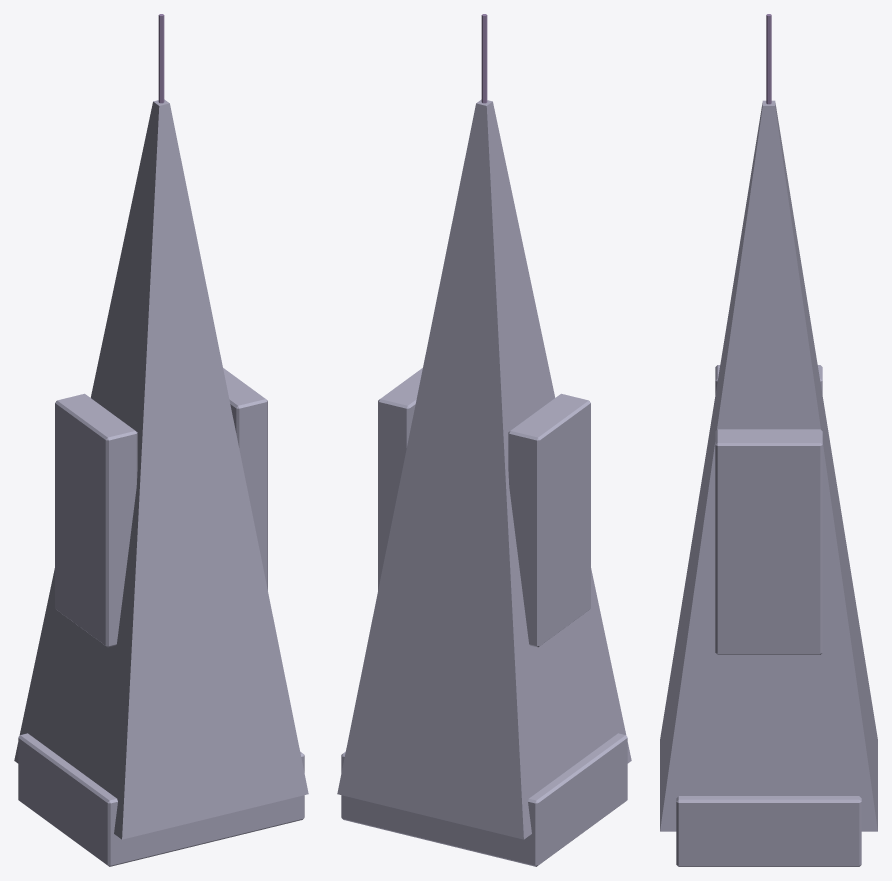
Rendered from sfv2_transamerica_pyramid.glb.
The picture shows the model from 3 angles, left to right: view 1: azimuth 30°, elevation 25°; view 2: azimuth 150°, elevation 25°; view 3: azimuth 270°, elevation 25°; orthographic projection.
Visible parts, largest first — view 1: sfv2_transamerica_pyramid__sf_pyramid_stone, sfv2_transamerica_pyramid__sf_lavender_trim; view 2: sfv2_transamerica_pyramid__sf_pyramid_stone, sfv2_transamerica_pyramid__sf_lavender_trim; view 3: sfv2_transamerica_pyramid__sf_pyramid_stone, sfv2_transamerica_pyramid__sf_lavender_trim.
Boxes of the visible parts, x1,y1,x2,y2 form: sfv2_transamerica_pyramid__sf_pyramid_stone: [14, 99, 308, 866]; sfv2_transamerica_pyramid__sf_lavender_trim: [158, 14, 164, 103]; sfv2_transamerica_pyramid__sf_pyramid_stone: [337, 99, 631, 866]; sfv2_transamerica_pyramid__sf_lavender_trim: [481, 14, 487, 103]; sfv2_transamerica_pyramid__sf_pyramid_stone: [660, 100, 877, 866]; sfv2_transamerica_pyramid__sf_lavender_trim: [766, 14, 771, 104].
Size of the model in its own units: 16.36 by 63.08 by 15.49.
